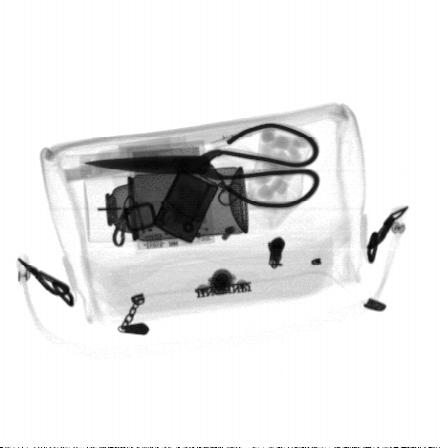Lighter: (153, 168, 218, 244)
Powerbank: (119, 139, 220, 256)
Scissors: (87, 121, 322, 211)
Sprayer: (85, 168, 250, 241)
